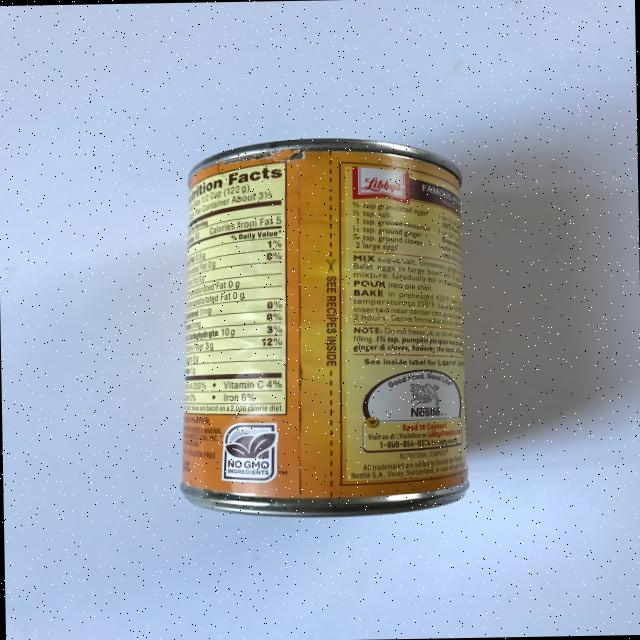metal: (174, 134, 471, 519)
